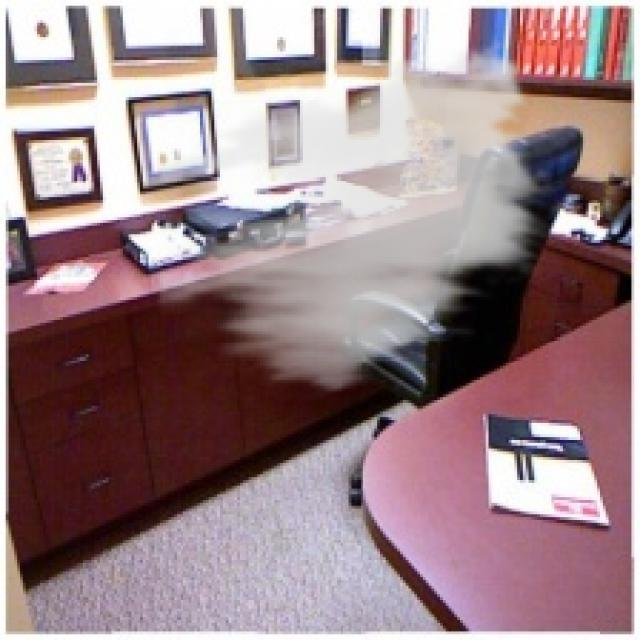smoke: (157, 31, 557, 403)
